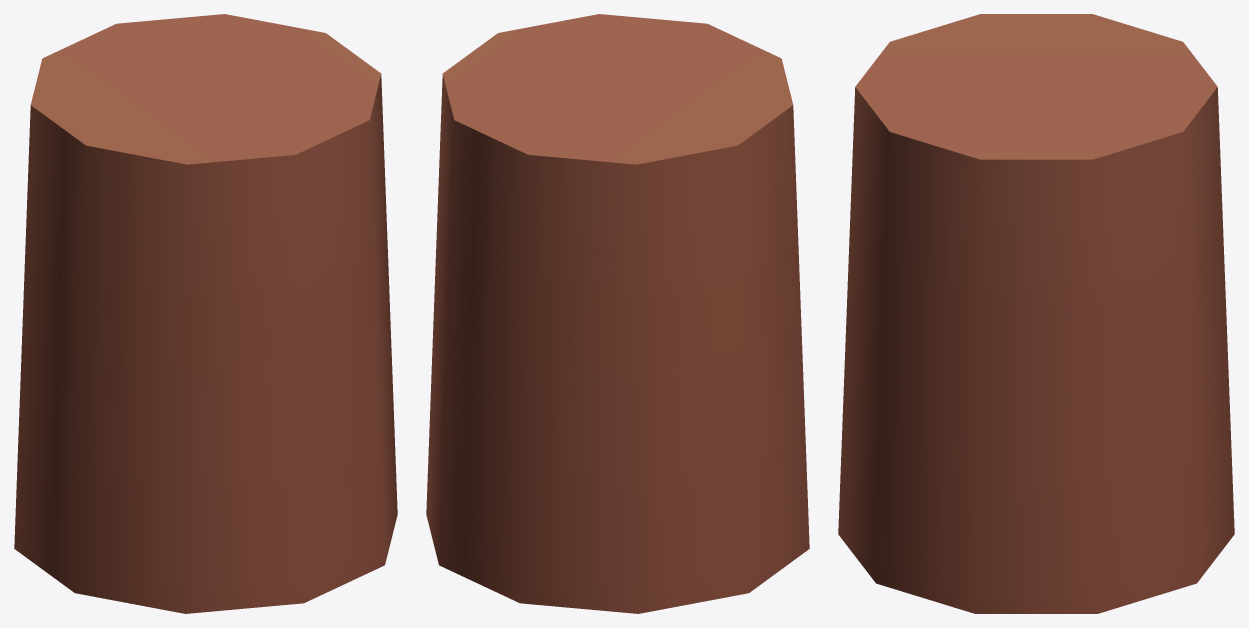
File: kaykit-medieval-hexagon-pack-tree-single-b-cut.glb
3 views of the same model, side by side, from view 1: azimuth 30°, elevation 25°; view 2: azimuth 150°, elevation 25°; view 3: azimuth 270°, elevation 25° (orthographic).
Visible parts, largest first — view 1: tree_single_B_cut; view 2: tree_single_B_cut; view 3: tree_single_B_cut.
Boxes of the visible parts, bbox=[...] form: tree_single_B_cut: bbox=[14, 14, 397, 613]; tree_single_B_cut: bbox=[426, 14, 809, 613]; tree_single_B_cut: bbox=[838, 14, 1234, 613].
Size of the model in its own units: 0.1807 by 0.2366 by 0.19.
1 material, 1 textured.
